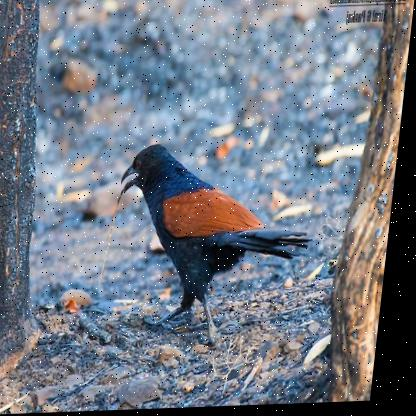Burung: (112, 140, 328, 349)
